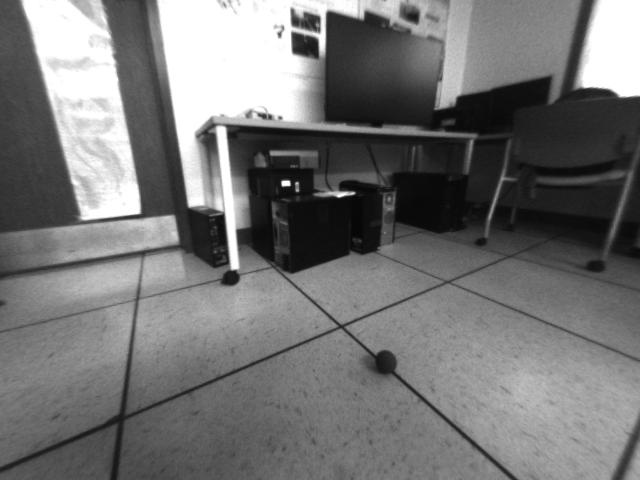dogtoy: (367, 342, 403, 379)
